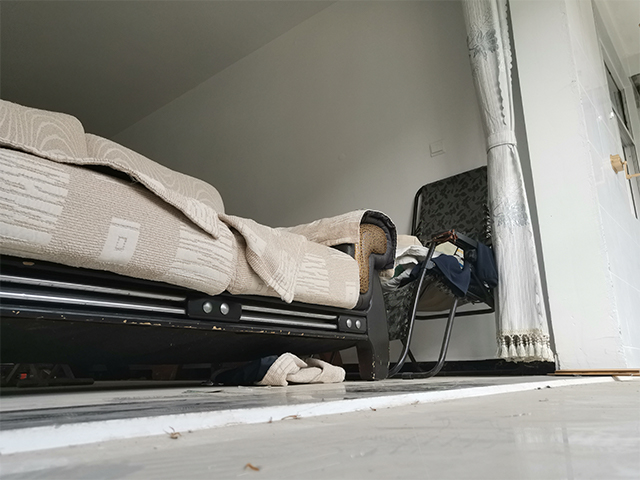curtain: (459, 1, 558, 365)
sofa: (1, 99, 402, 385)
stool: (380, 162, 497, 379)
